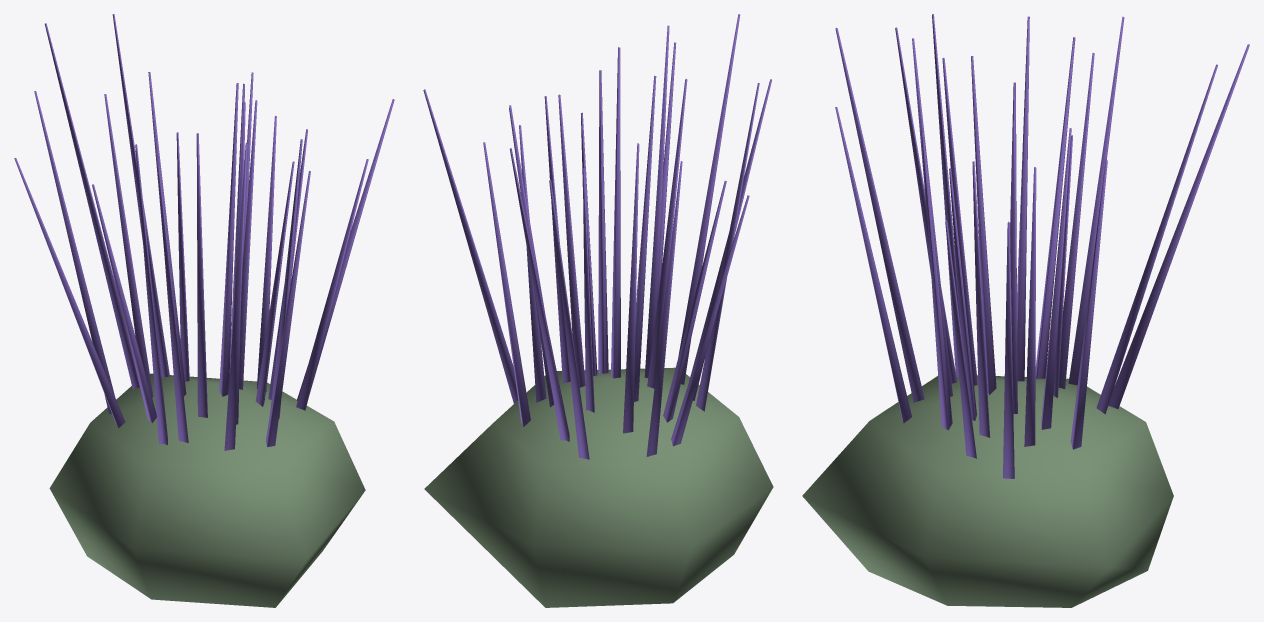
The model's file is lavender.far.glb.
3 views of the same model, side by side, from view 1: azimuth 30°, elevation 25°; view 2: azimuth 150°, elevation 25°; view 3: azimuth 270°, elevation 25° (orthographic). The views are drawn at different scales.
Parts seen in each view (by area): view 1: lavender; view 2: lavender; view 3: lavender.
Part boxes in pixels (x1=…): lavender: x1=14, y1=14, x2=394, y2=607; lavender: x1=423, y1=14, x2=773, y2=607; lavender: x1=802, y1=14, x2=1249, y2=607.
Bounding box in the file's own units: 0.607 × 0.865 × 0.63.
